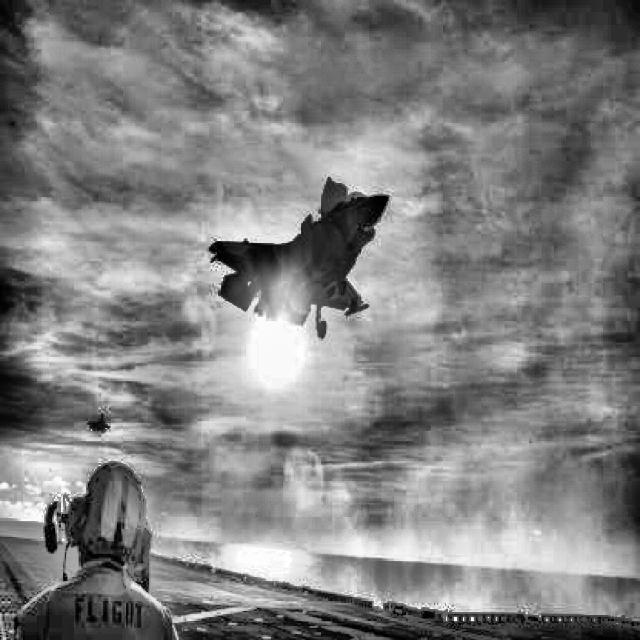F35: (208, 177, 390, 338), (88, 413, 110, 433)
